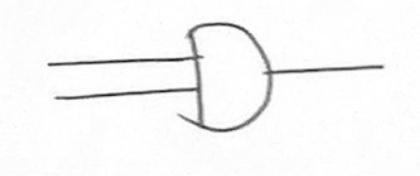AND: (180, 21, 285, 138)
